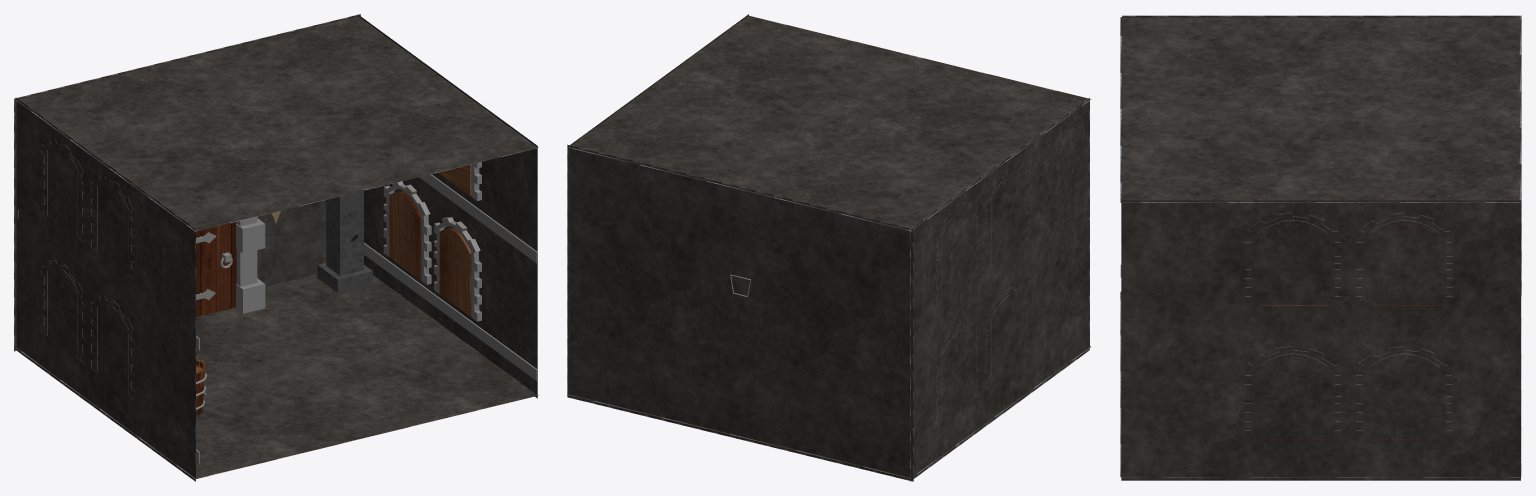
The model's file is OKP - Calabozo - Natalia Caro.fbx.
3 views of the same model, side by side, from view 1: azimuth 30°, elevation 25°; view 2: azimuth 150°, elevation 25°; view 3: azimuth 270°, elevation 25° (orthographic). The views are drawn at different scales.
Parts seen in each view (by area): view 1: polySurface189, polySurface9, polySurface20, polySurface19, polySurface21, pCube2, polySurface165, polySurface11, polySurface18, polySurface190, polySurface15, polySurface22 (+5 smaller); view 2: polySurface21, polySurface189, polySurface9, polySurface20, polySurface19; view 3: polySurface19, polySurface189, polySurface9, polySurface20.
Part boxes in pixels (<box>): polySurface189: <box>16,16,538,231</box>; polySurface9: <box>15,97,195,481</box>; polySurface20: <box>16,274,538,479</box>; polySurface19: <box>358,14,537,398</box>; polySurface21: <box>14,14,360,351</box>; pCube2: <box>317,190,372,292</box>; polySurface165: <box>196,221,236,317</box>; polySurface11: <box>439,228,471,316</box>; polySurface18: <box>389,191,421,279</box>; polySurface190: <box>364,242,537,380</box>; polySurface15: <box>434,217,481,321</box>; polySurface22: <box>383,181,431,284</box>; polySurface21: <box>567,144,913,481</box>; polySurface189: <box>568,15,1091,231</box>; polySurface9: <box>910,98,1089,481</box>; polySurface20: <box>568,346,1091,478</box>; polySurface19: <box>569,14,748,397</box>; polySurface19: <box>1121,200,1520,480</box>; polySurface189: <box>1120,17,1521,202</box>; polySurface9: <box>1122,15,1521,295</box>; polySurface20: <box>1120,291,1521,477</box>.
Size of the model in its own units: 69.21 by 48.22 by 62.51.
1 material, 1 textured.
